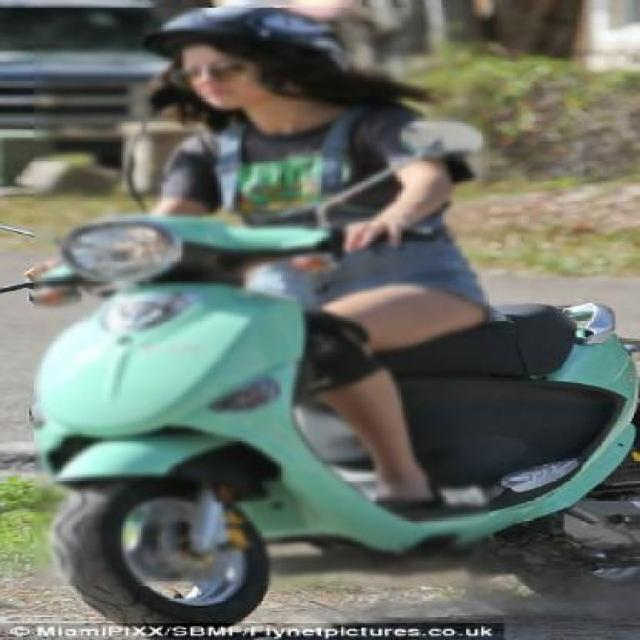helmet: (146, 0, 407, 153)
motorcycle: (35, 0, 640, 640)
